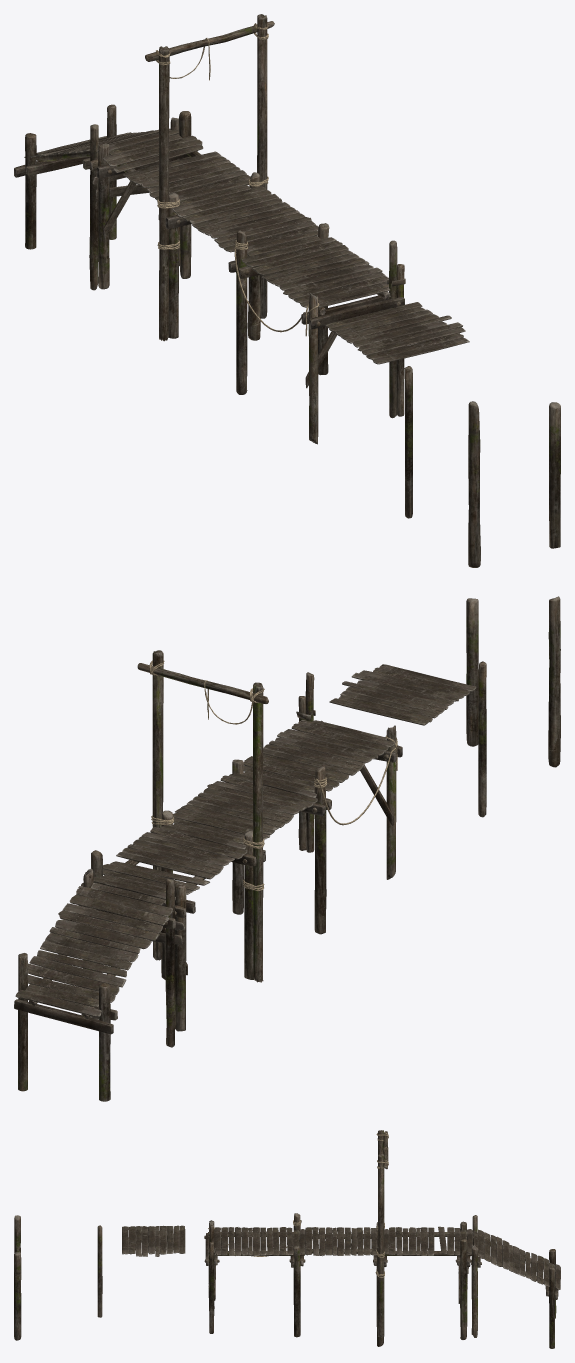
Rendered from modular_wooden_pier.glb.
3 views of the same model, one above another, from view 1: azimuth 30°, elevation 25°; view 2: azimuth 150°, elevation 25°; view 3: azimuth 270°, elevation 25° (orthographic). The views are drawn at different scales.
Visible parts, largest first — view 1: modular_wooden_pier_section_01, modular_wooden_pier_section_03, modular_wooden_pier_section_02, modular_wooden_pier_section_05, modular_wooden_pier_section_04, modular_wooden_pier_planks, modular_wooden_pier_poles; view 2: modular_wooden_pier_section_04, modular_wooden_pier_section_01, modular_wooden_pier_section_03, modular_wooden_pier_section_02, modular_wooden_pier_section_05, modular_wooden_pier_poles, modular_wooden_pier_planks; view 3: modular_wooden_pier_section_01, modular_wooden_pier_section_04, modular_wooden_pier_section_03, modular_wooden_pier_section_02, modular_wooden_pier_planks, modular_wooden_pier_section_05, modular_wooden_pier_poles.
Part boxes in pixels (box(x1,y1,x2,y2)): modular_wooden_pier_section_01: box(228, 223, 405, 444); modular_wooden_pier_section_03: box(89, 111, 250, 289); modular_wooden_pier_section_02: box(158, 172, 318, 340); modular_wooden_pier_section_05: box(145, 14, 274, 341); modular_wooden_pier_section_04: box(14, 104, 179, 290); modular_wooden_pier_planks: box(325, 302, 469, 364); modular_wooden_pier_poles: box(404, 366, 560, 567); modular_wooden_pier_section_04: box(14, 868, 175, 1101); modular_wooden_pier_section_01: box(229, 672, 402, 934); modular_wooden_pier_section_03: box(81, 827, 247, 1031); modular_wooden_pier_section_02: box(160, 775, 317, 979); modular_wooden_pier_section_05: box(137, 650, 268, 982); modular_wooden_pier_poles: box(466, 596, 560, 817); modular_wooden_pier_planks: box(329, 664, 476, 725); modular_wooden_pier_section_01: box(204, 1213, 305, 1337); modular_wooden_pier_section_04: box(471, 1215, 560, 1348); modular_wooden_pier_section_03: box(376, 1221, 473, 1339); modular_wooden_pier_section_02: box(292, 1222, 389, 1346); modular_wooden_pier_planks: box(122, 1225, 185, 1256); modular_wooden_pier_section_05: box(375, 1130, 388, 1337); modular_wooden_pier_poles: box(14, 1215, 102, 1340).
Bounding box in the file's own units: 3.1 × 7.51 × 19.03.
2 materials, 2 textured.
